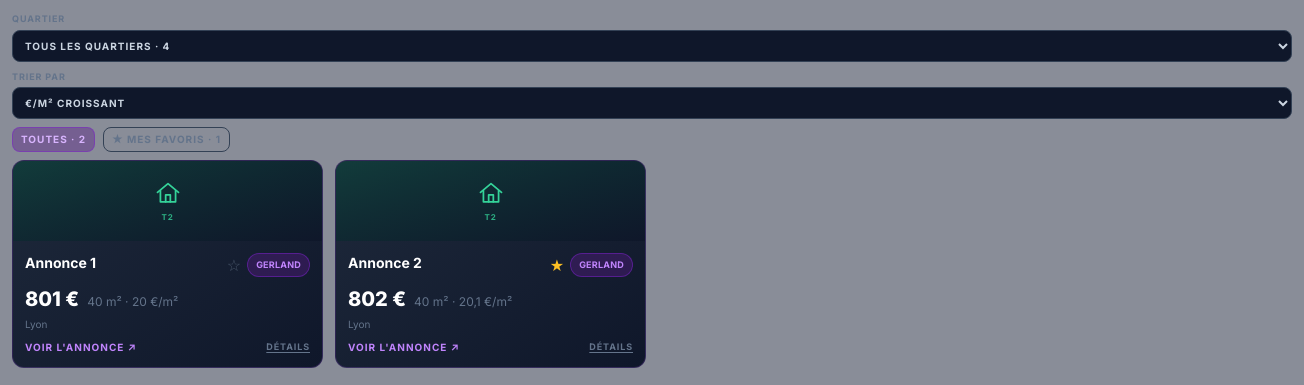
Scenario: AnnoncesList › filtre "Mes favoris" (ORA-132) › filters to only the favorited annonces when switching to "Mes favoris"
expect the text "Annonce 1" is shown: met, box [25,253,96,273]
Click the tab "★ Mes favoris · 1" at {"x": 167, "y": 140}, box [103,127,230,152]
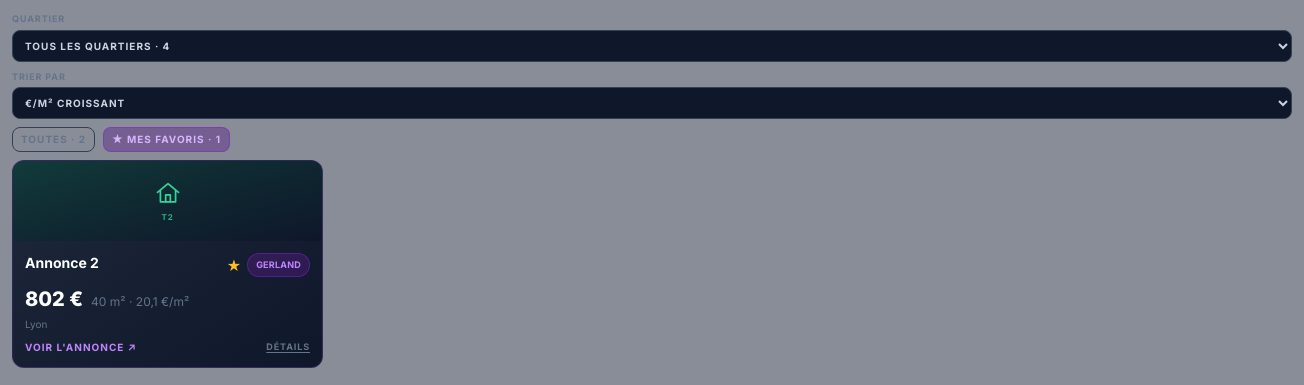
expect the text "Annonce 2" is shown: met, box [25,253,99,273]
expect the button "Annonce 1" is gone: met
